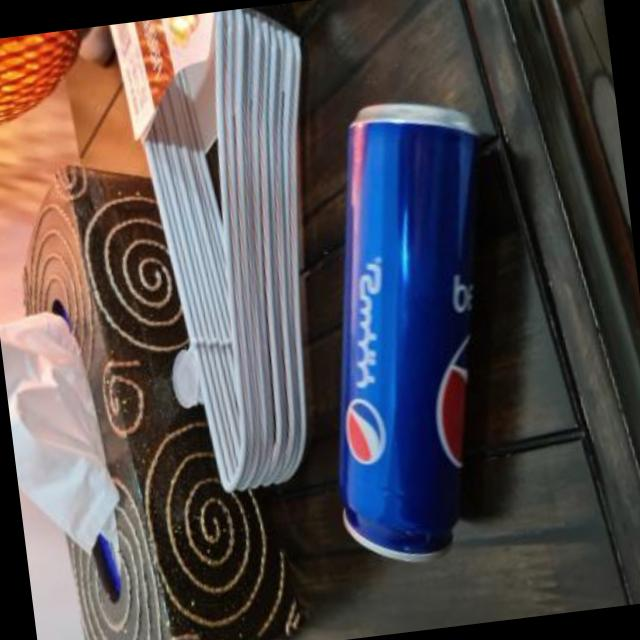cardboard paper: (0, 315, 117, 550)
metal: (337, 100, 475, 557)
